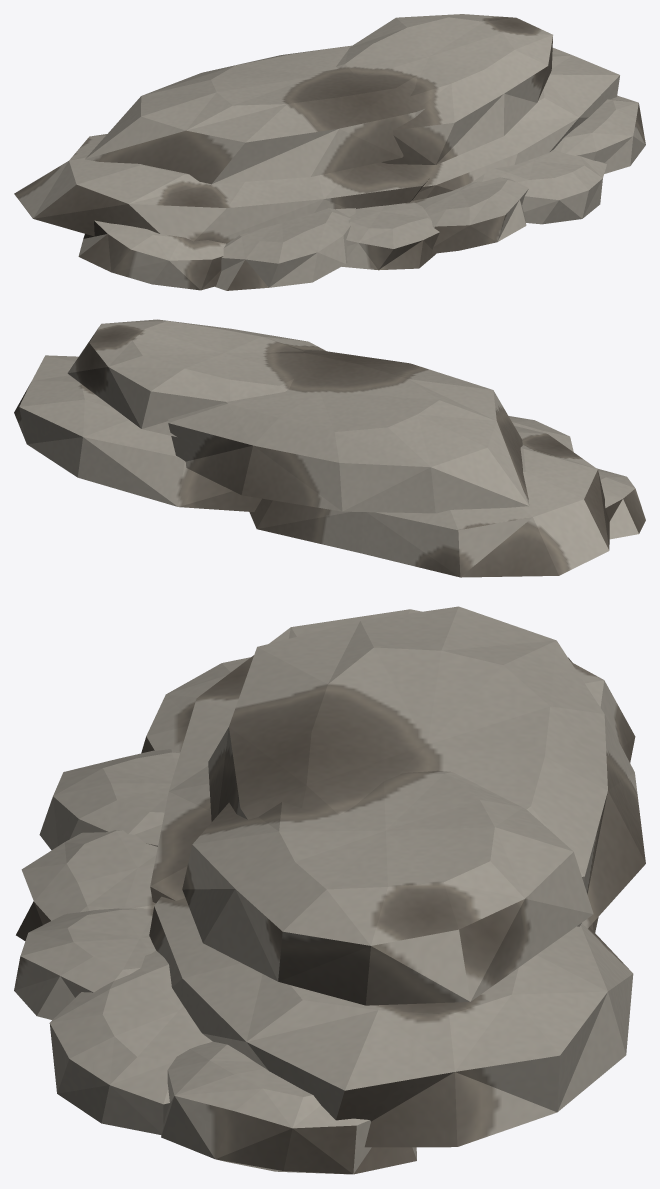
Rendered from CommonStone_Deposit_B.fbx.
3 views of the same model, one above another, from view 1: azimuth 30°, elevation 25°; view 2: azimuth 150°, elevation 25°; view 3: azimuth 270°, elevation 25° (orthographic). The views are drawn at different scales.
Parts seen in each view (by area): view 1: CommonStone_Deposit_B_LOD0; view 2: CommonStone_Deposit_B_LOD0; view 3: CommonStone_Deposit_B_LOD0.
Part boxes in pixels (bbox=[...]): CommonStone_Deposit_B_LOD0: bbox=[14, 14, 645, 290]; CommonStone_Deposit_B_LOD0: bbox=[14, 319, 645, 577]; CommonStone_Deposit_B_LOD0: bbox=[14, 606, 645, 1174].
Size of what is drawn, in the model's own units: 428 by 92.14 by 226.
